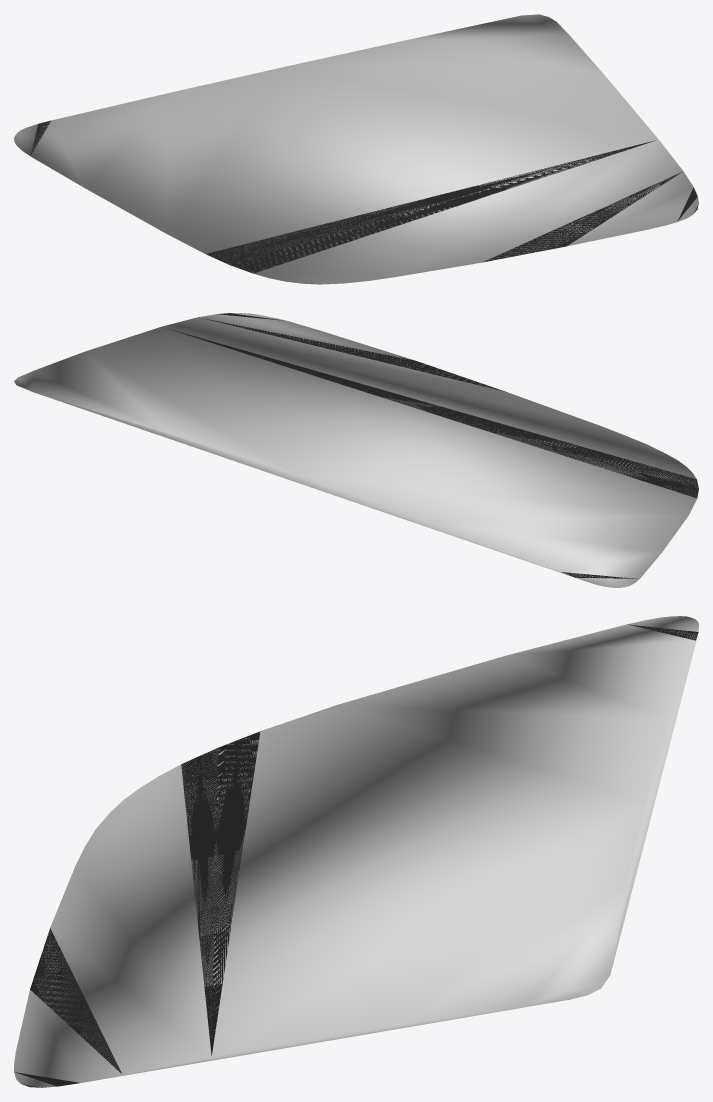
3 views of the same model, one above another, from view 1: azimuth 30°, elevation 25°; view 2: azimuth 150°, elevation 25°; view 3: azimuth 270°, elevation 25° (orthographic). The views are drawn at different scales.
Visible parts, largest first — view 1: grille_stampede_head_l_01_col, grille_stampede_head_l_01; view 2: grille_stampede_head_l_01_col, grille_stampede_head_l_01; view 3: grille_stampede_head_l_01_col, grille_stampede_head_l_01.
Boxes of the visible parts, x1=… form: grille_stampede_head_l_01_col: x1=14, y1=14, x2=698, y2=284; grille_stampede_head_l_01: x1=30, y1=120, x2=698, y2=273; grille_stampede_head_l_01_col: x1=14, y1=313, x2=697, y2=587; grille_stampede_head_l_01: x1=167, y1=313, x2=698, y2=578; grille_stampede_head_l_01_col: x1=14, y1=616, x2=698, y2=1087; grille_stampede_head_l_01: x1=14, y1=624, x2=698, y2=1087.
Bounding box in the file's own units: 0.4723 × 0.0653 × 0.3293.
1 material, 1 textured.
